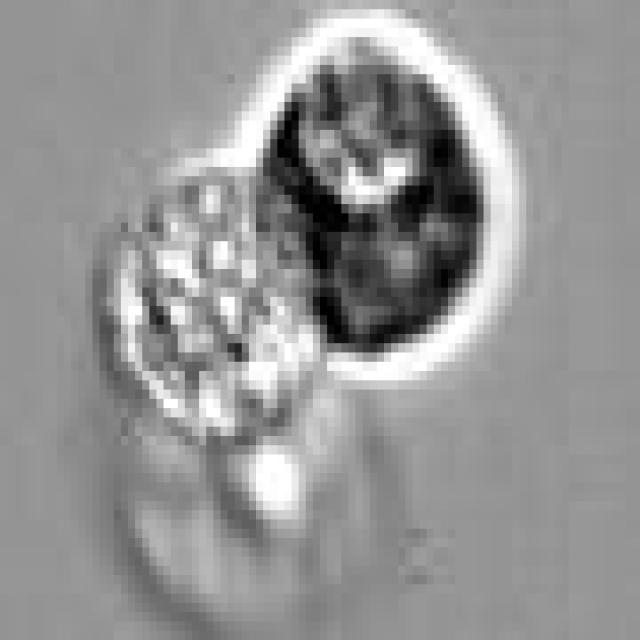WBC: (256, 46, 498, 362), (107, 167, 327, 445)
